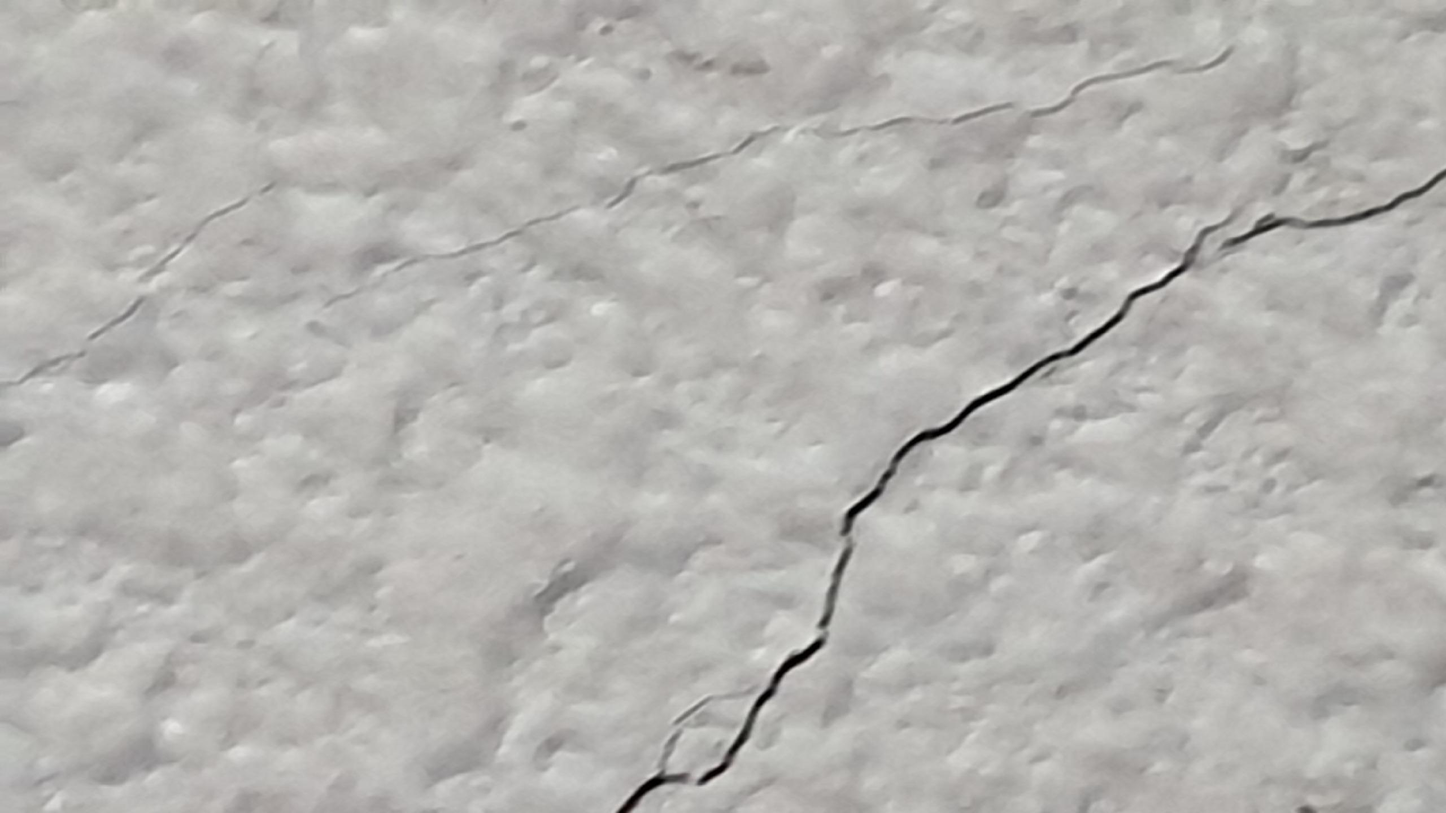crack: (618, 204, 1240, 812), (1223, 163, 1443, 252)
